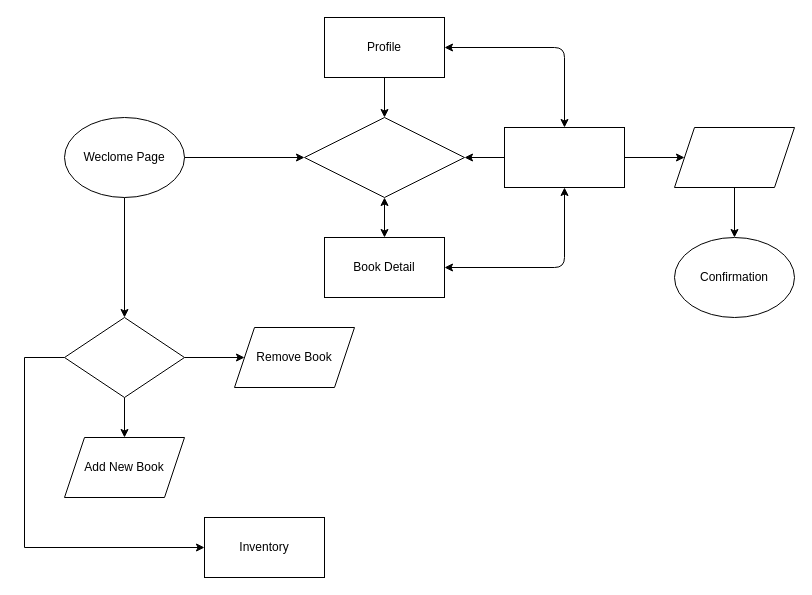
Some shapes in this 812 by 595 pixel diagram are drawn without their labels. Each missing label, with the centre of its shape:
Admin Home: (124,357)
Cart: (564,157)
Checkout: (734,157)
Home/Filter: (384,157)
